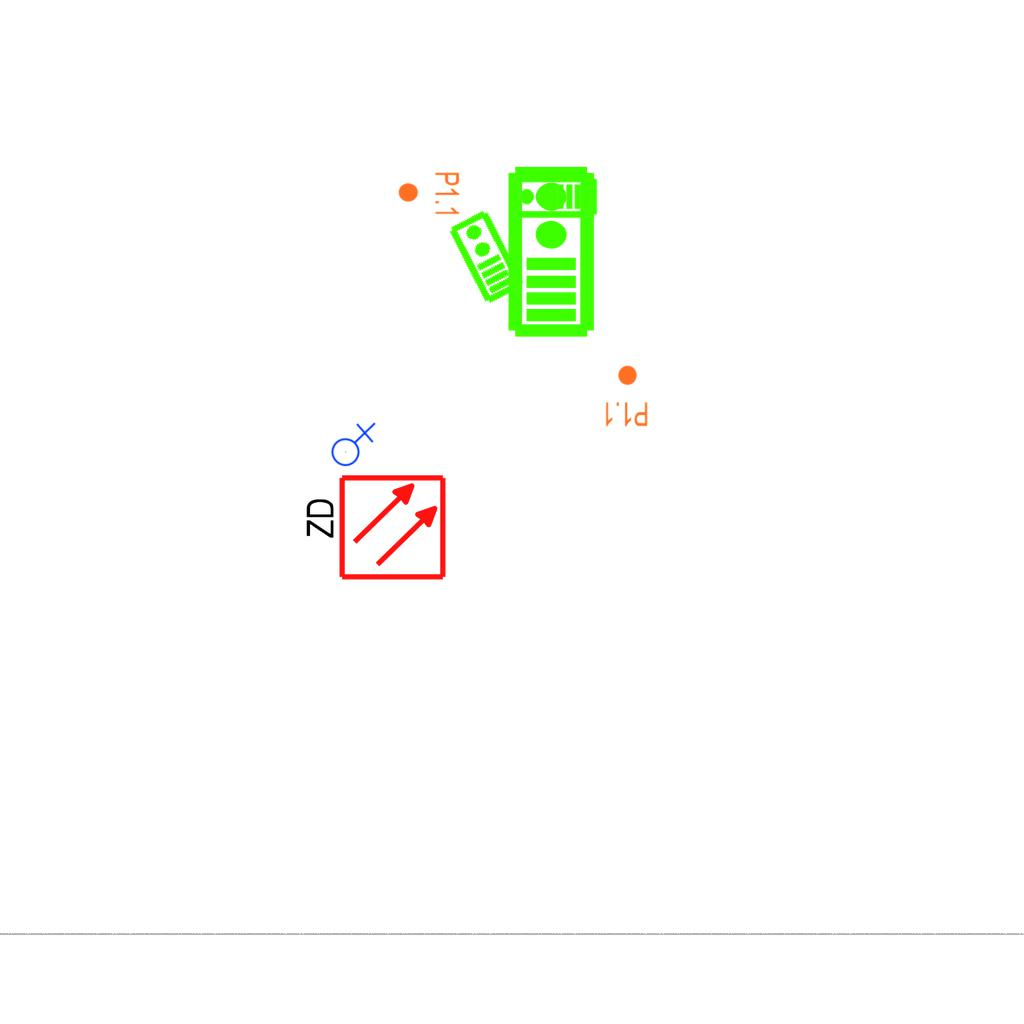Downlight_LED_Einbauleuchten_Flur: (397, 171, 461, 217), (603, 364, 649, 428)
Elektroanschluss_allgemein_230V_Geraeteanschlussdose_230V: (327, 420, 376, 467)
Gegensprechanlage_mit_Video: (502, 163, 597, 339), (444, 207, 527, 307), (510, 174, 598, 221)
ZD_Melder_in_Zwischendecke_mit_Revisionsoeffnung_mind_40_x_40_cm: (299, 472, 448, 586)
